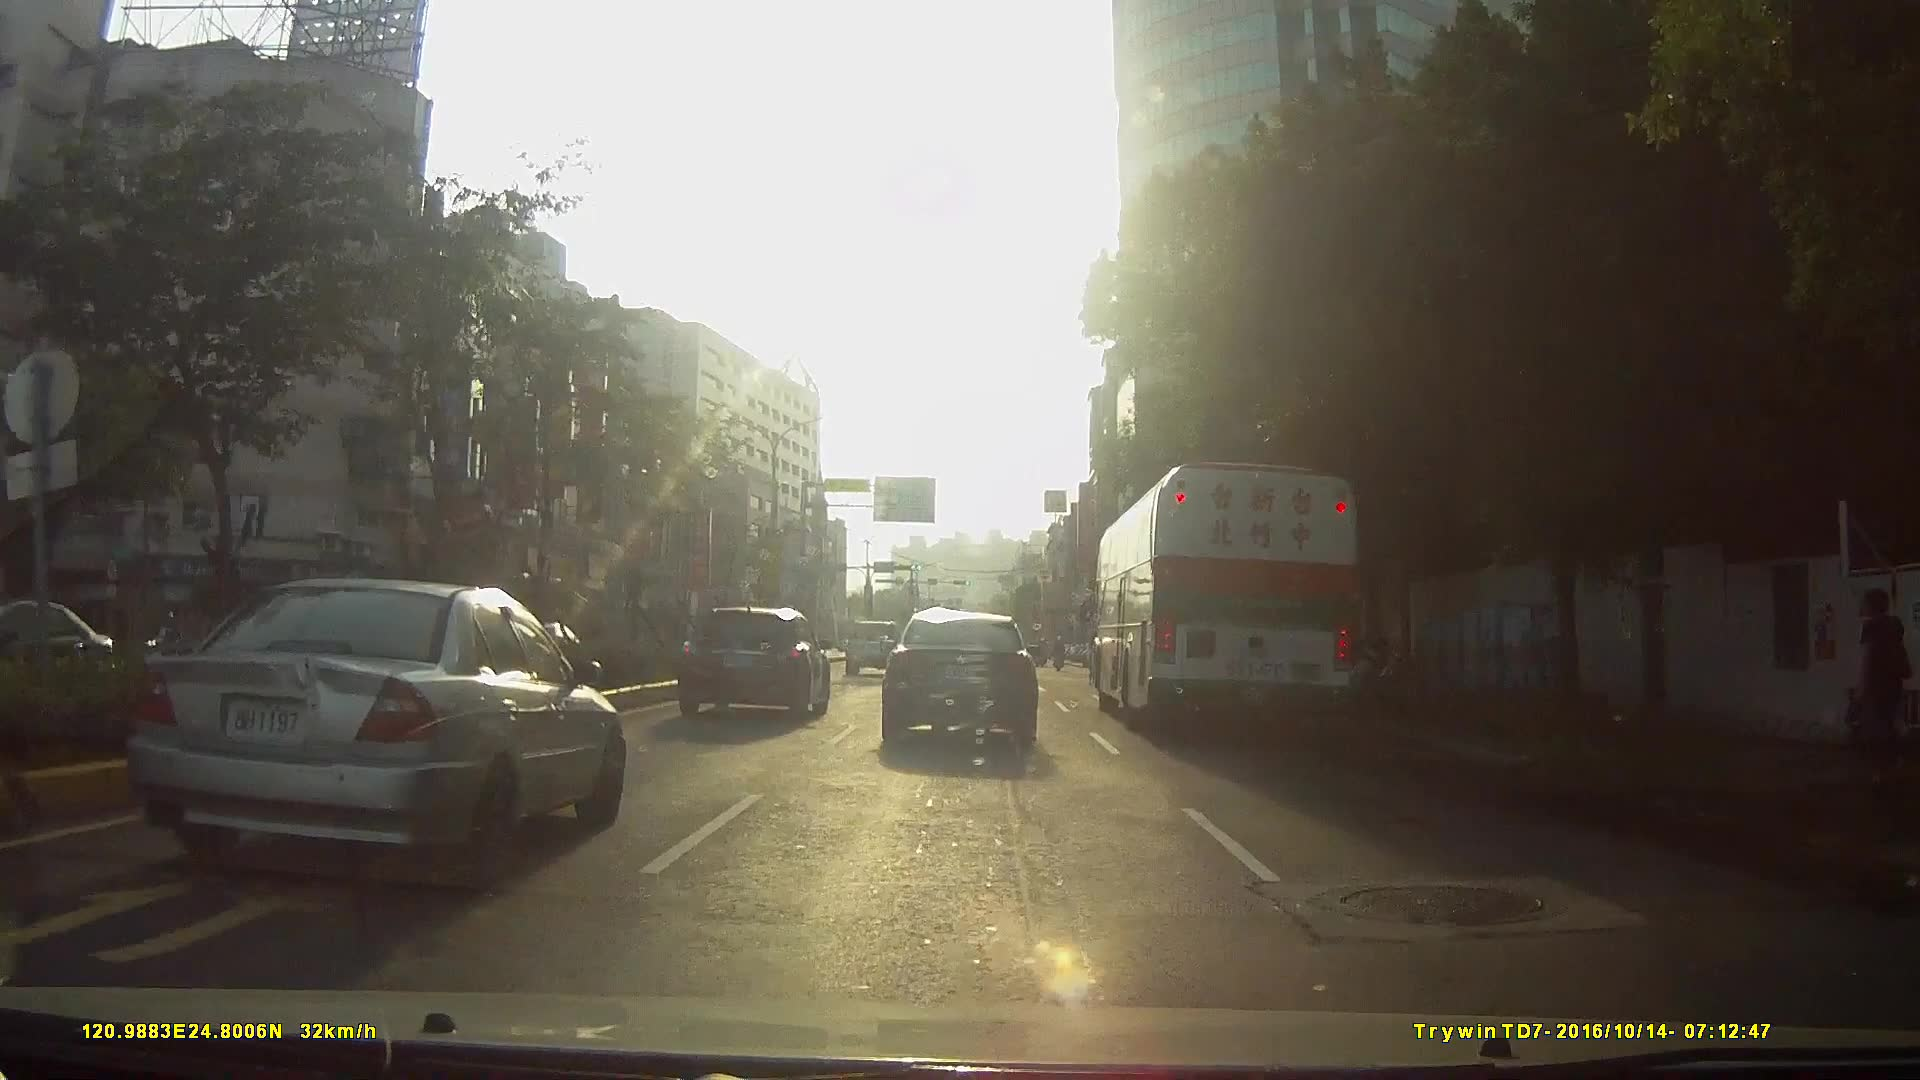pedestrian: (1849, 589, 1919, 780)
rider: (132, 608, 190, 688)
vehicle: (118, 574, 625, 893), (1097, 452, 1372, 732), (878, 608, 1041, 752), (676, 602, 832, 720), (1, 602, 125, 711), (845, 618, 902, 676)
